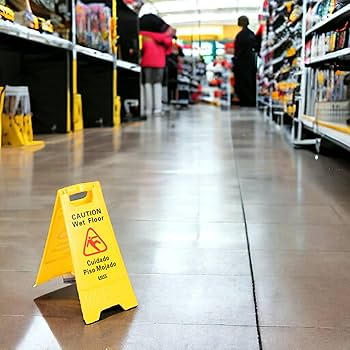wet caution sign: (32, 179, 133, 325)
